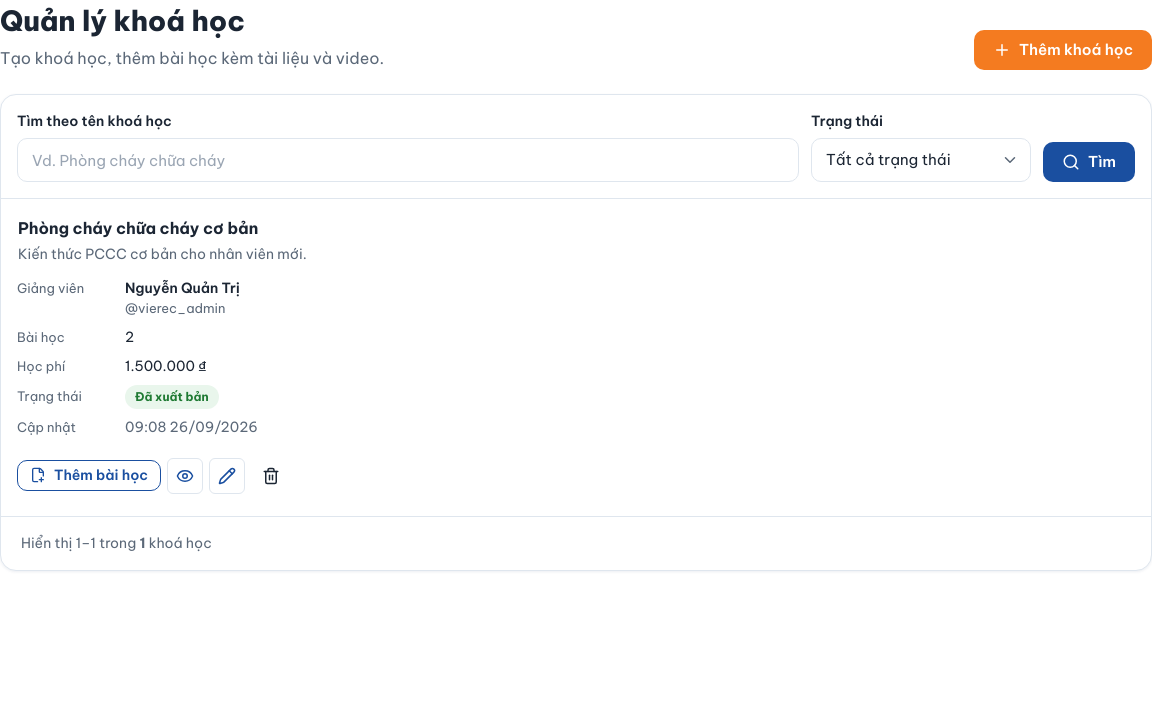
Test: CoursesPage › deletes a course after confirmation
Click the button named "Xoá khoá Phòng cháy chữa cháy cơ bản": [271, 476] box [251,456,291,496]
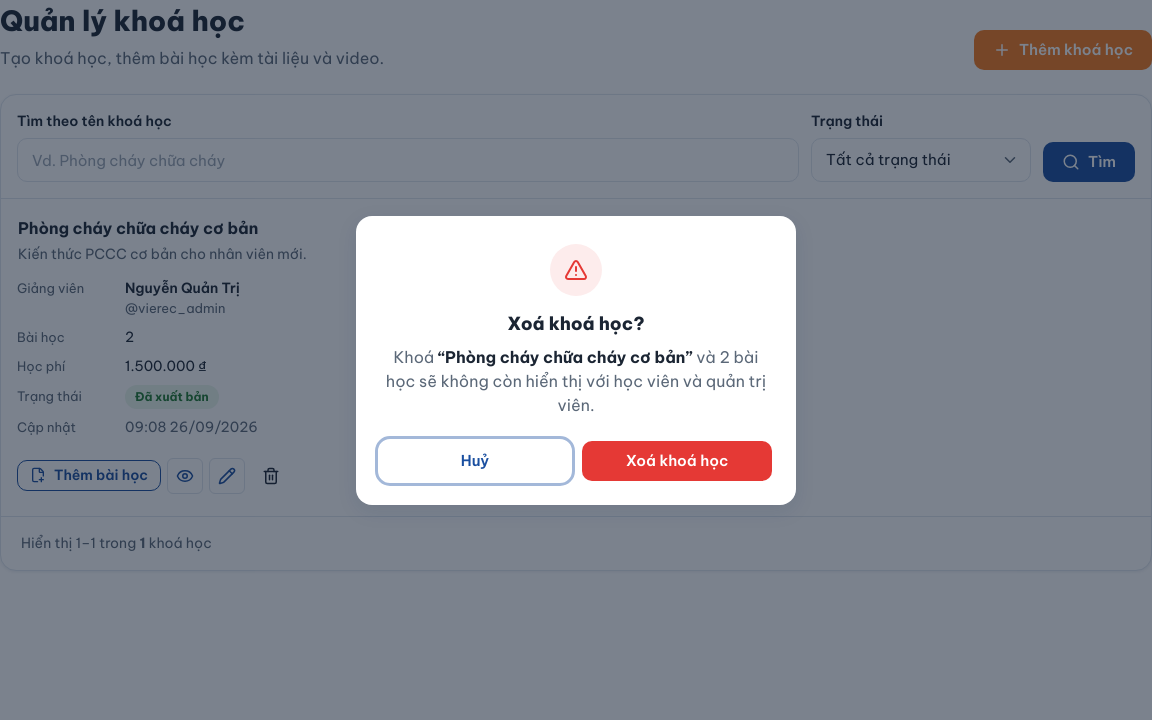
Click the button "Xoá khoá học": [677, 460] box [582,440,772,480]
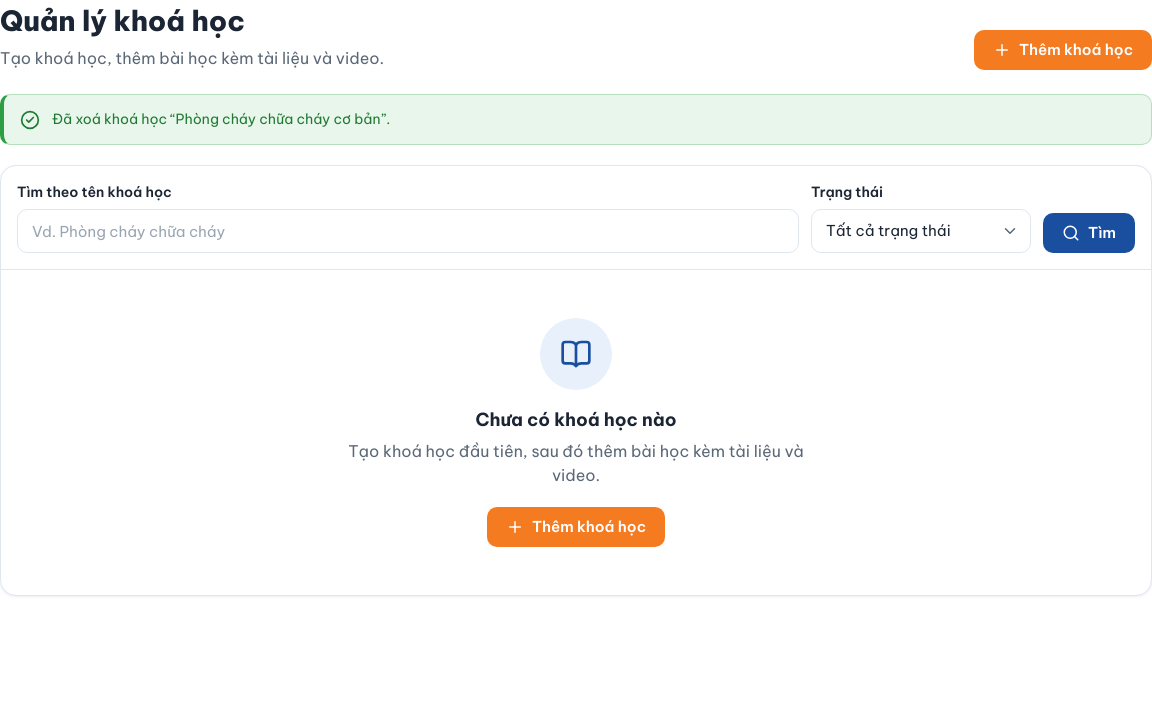
Check: the dialog is gone
Check: the text "Chưa có khoá học nào" is shown, box [476,406,677,433]
